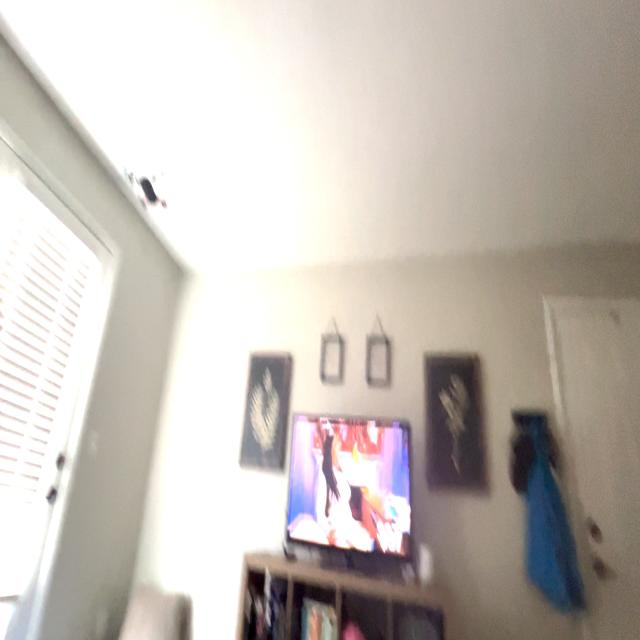drone: (119, 154, 177, 221)
